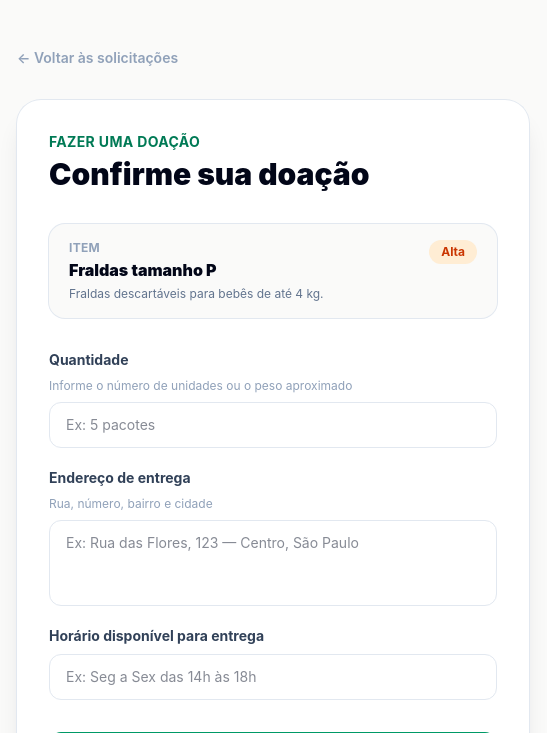
Test: DoarPage › Validação do formulário › exibe erro ao submeter somente com quantidade preenchida
In the number field with placeholder "Ex: 5 pacotes": [273, 425] box [49, 402, 497, 448], type "3"
(page scrolled)
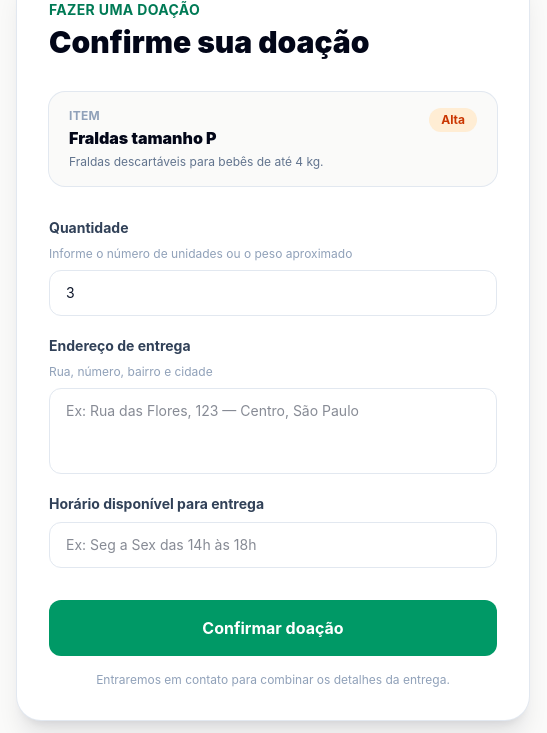
Click the button "Confirmar doação": [273, 628] box [49, 600, 497, 656]
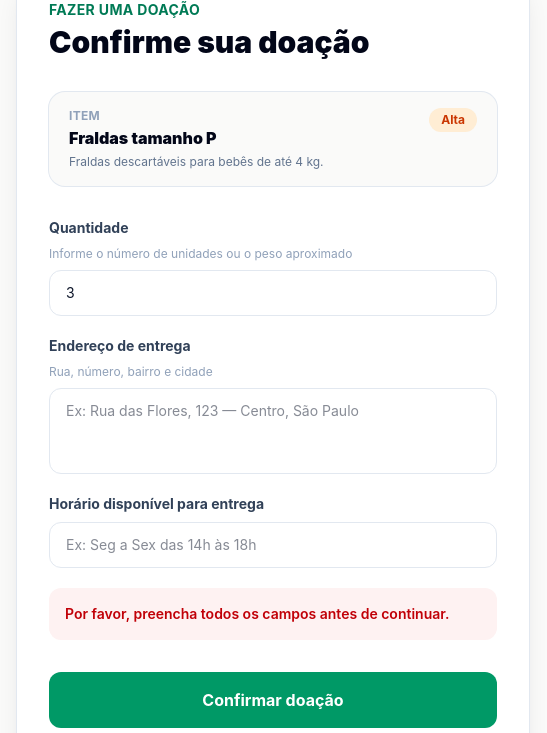
Expected: the message "Por favor, preencha todos os campos antes de continuar." is shown, [49, 588, 497, 640]
